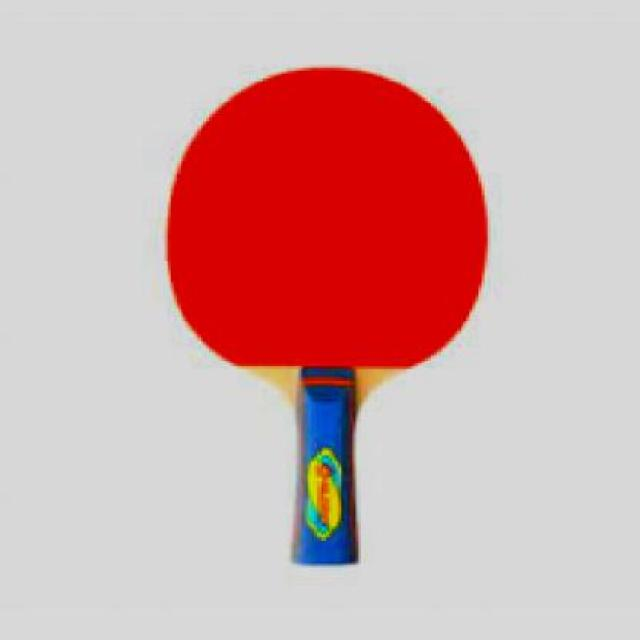table_tennis_racket: (159, 61, 492, 392)
